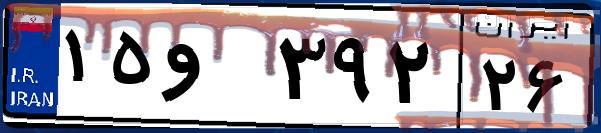1: (57, 26, 110, 100)
2: (385, 28, 445, 110), (475, 38, 525, 113)
3: (270, 28, 330, 110)
5: (110, 28, 158, 98)
6: (525, 38, 570, 115)
9: (330, 28, 385, 110)
و: (158, 20, 270, 120)
